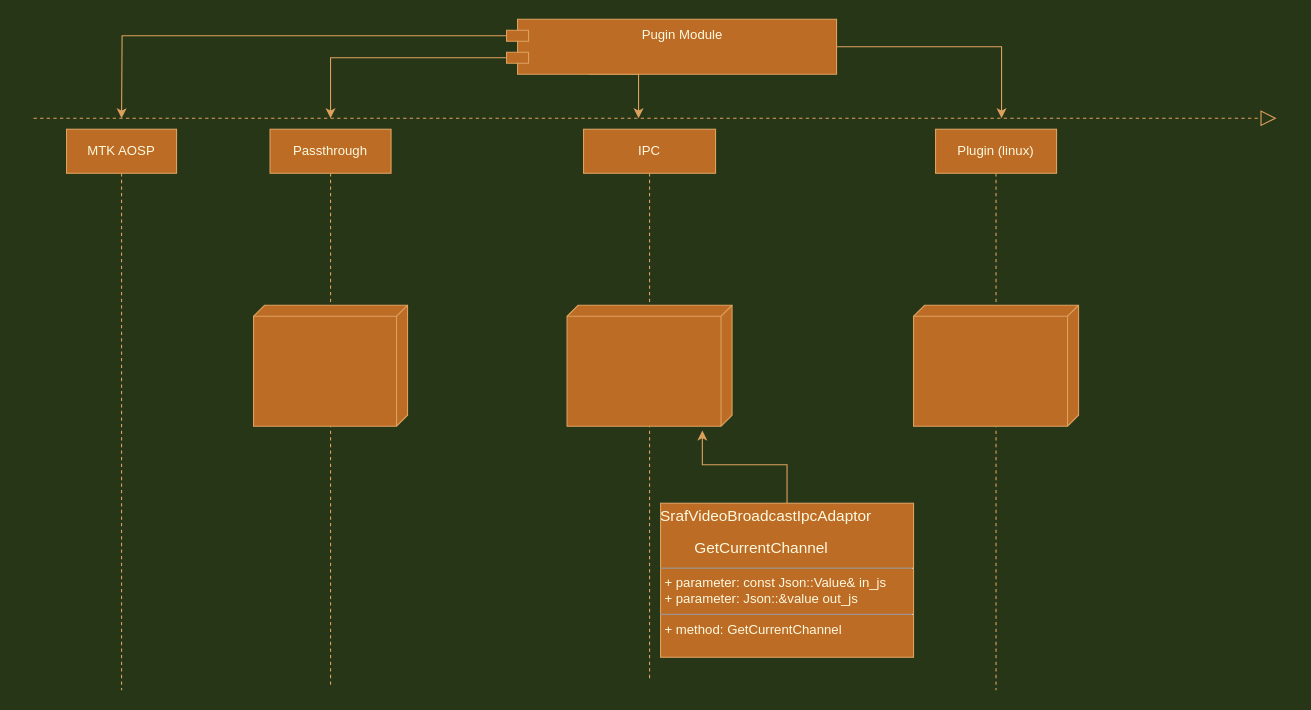
This 1311x710 diagram has some shape labels left out. Each missing label, with the centre of its shape:
sraf_XXX_plat_impl.cc: pixel 995 365
SrafXXXAdaptor: pixel 330 365
XXX_ipc_adaptor.cc: pixel 649 365
